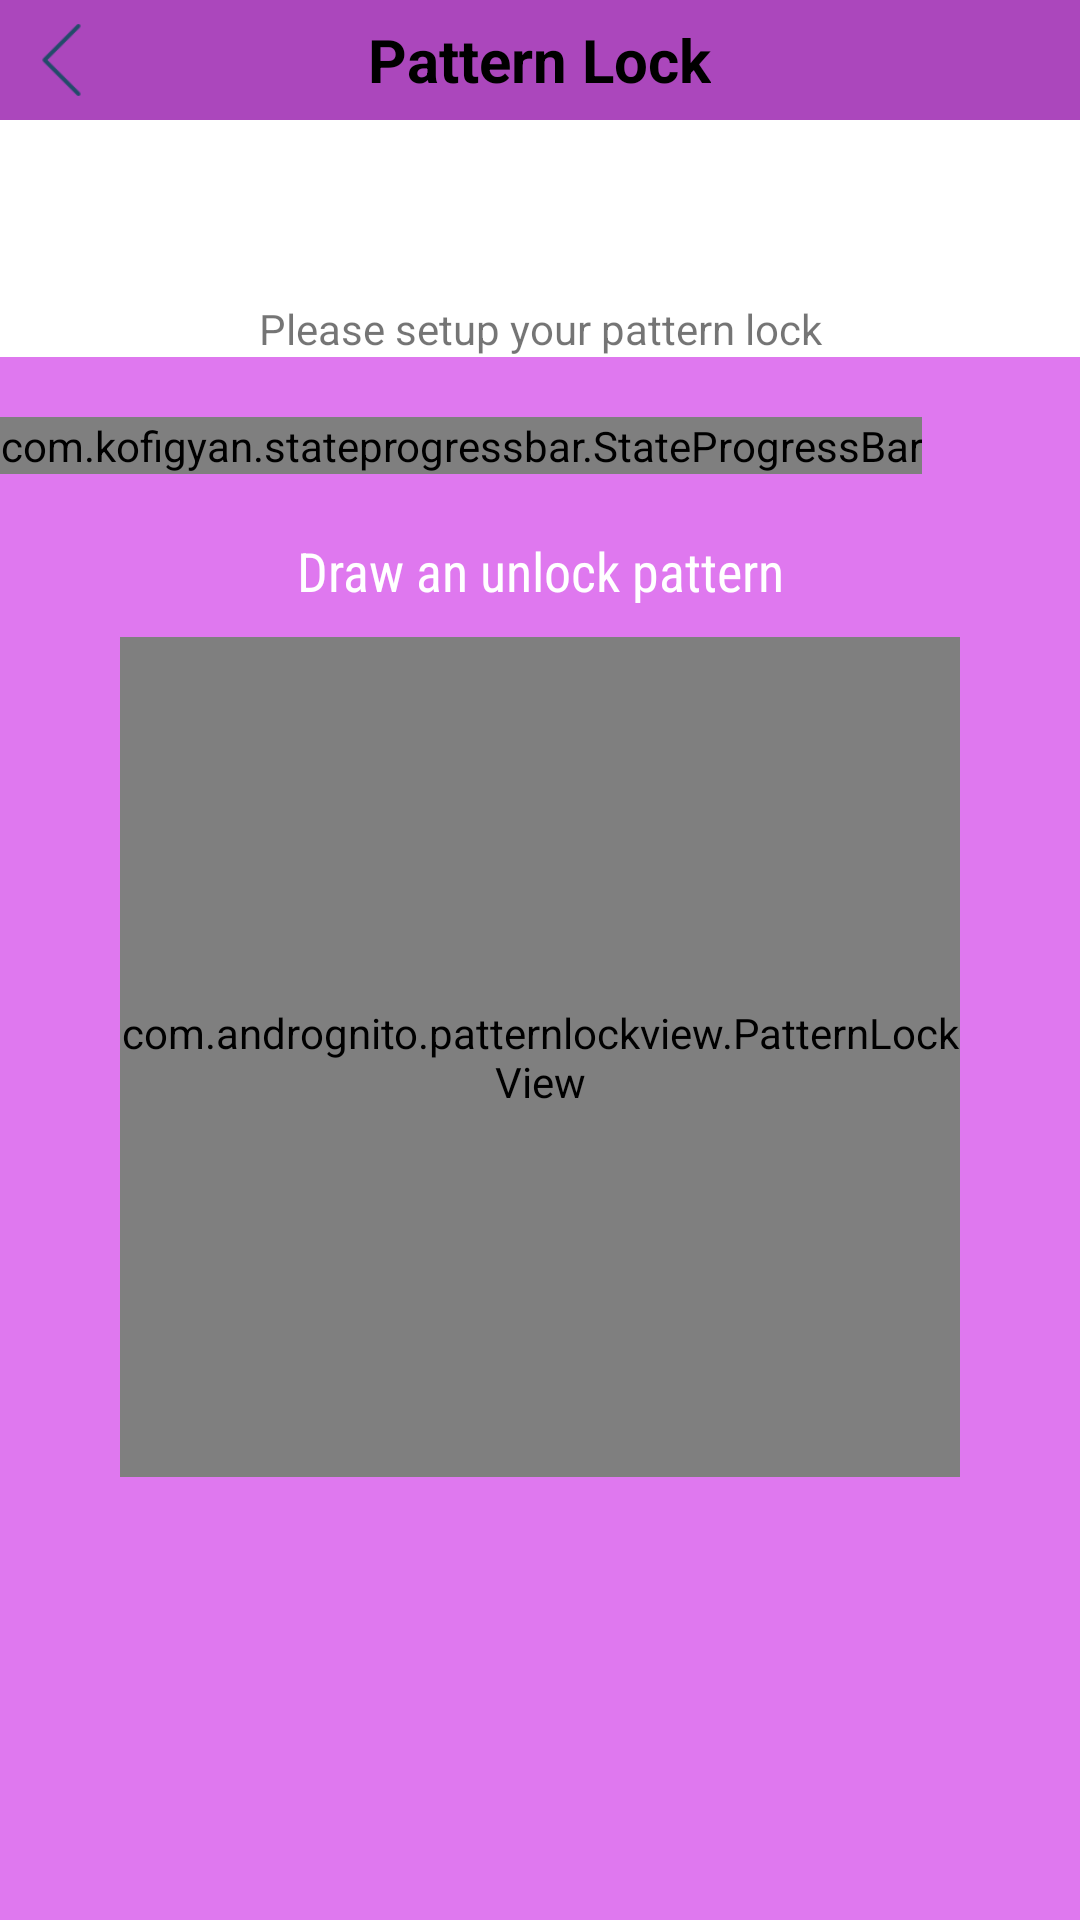

Where to tap for icons on this 1080 x 1920 app screen, as point (x, y):
back: point (61, 60)
